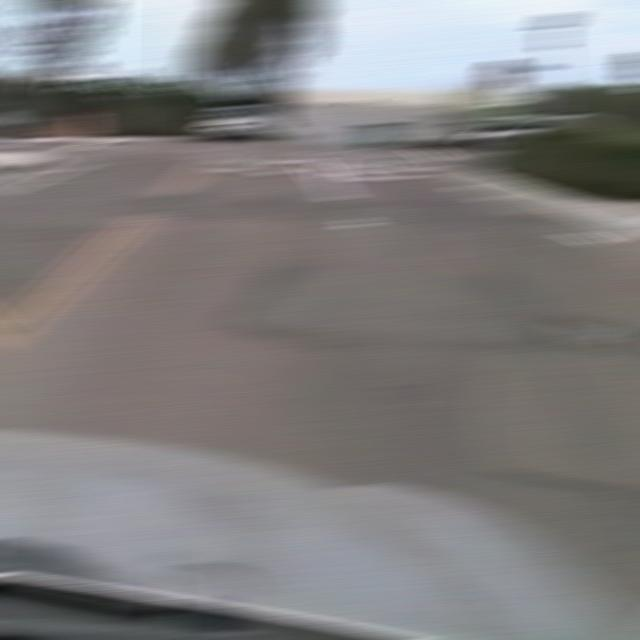stop: (483, 58, 523, 90)
